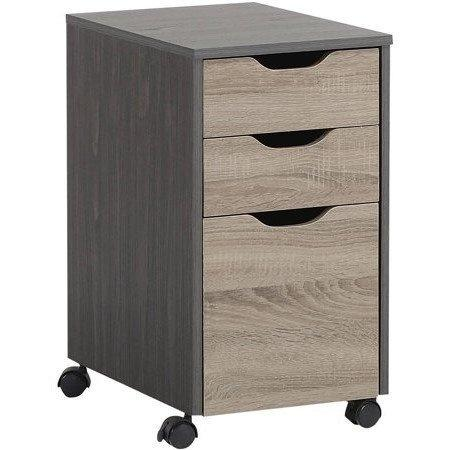cabinet_door: (205, 209, 380, 408), (203, 53, 381, 131), (203, 133, 380, 211)
handle: (251, 205, 332, 231), (253, 129, 331, 154), (257, 55, 328, 77), (159, 416, 198, 450)
